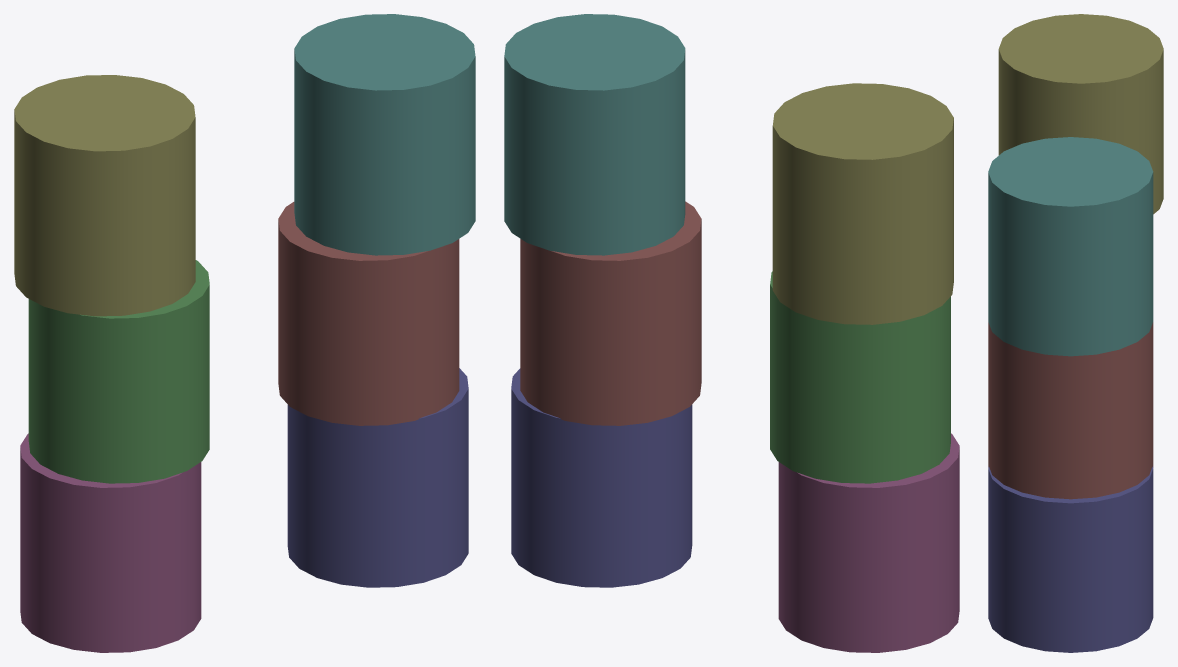
The model's file is cylinder_blocks.fbx.
The picture shows the model from 3 angles, left to right: view 1: azimuth 30°, elevation 25°; view 2: azimuth 150°, elevation 25°; view 3: azimuth 270°, elevation 25°; orthographic projection. The views are drawn at different scales.
Parts seen in each view (by area): view 1: pasted__pCylinder1 (×5), pCylinder1; view 2: pasted__pCylinder1 (×5), pCylinder1; view 3: pasted__pCylinder1 (×4).
Part boxes in pixels (box(x1,y1,x2,y2)): pasted__pCylinder1 (×5): box(14, 14, 475, 587); pCylinder1: box(20, 433, 201, 652); pasted__pCylinder1 (×5): box(504, 14, 953, 587); pCylinder1: box(778, 433, 959, 652); pasted__pCylinder1 (×4): box(988, 14, 1163, 652).
Size of the model in its own units: 5.48 by 6.03 by 2.13.
